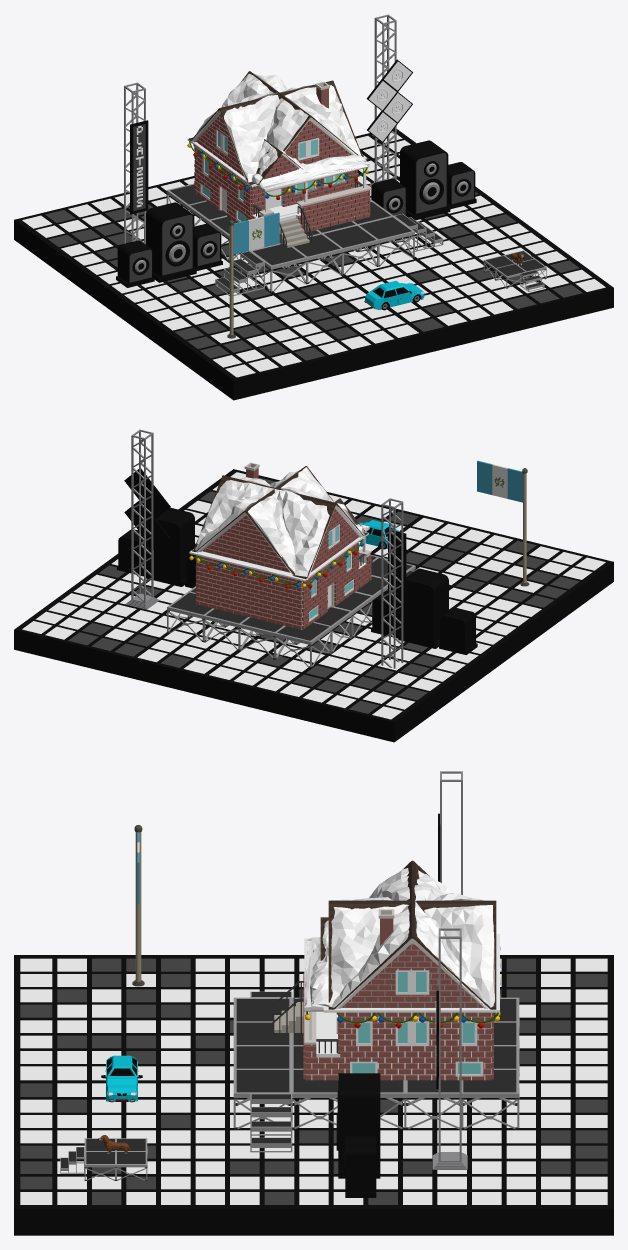
3 views of the same model, one above another, from view 1: azimuth 30°, elevation 25°; view 2: azimuth 150°, elevation 25°; view 3: azimuth 270°, elevation 25° (orthographic). The views are drawn at different scales.
Parts seen in each view (by area): view 1: Cube.008, Cube.1419, OBJRANDOM_GUATEMALAN_FLAG, VEHICLES_CAR; view 2: Cube.008, Cube.1419, OBJRANDOM_GUATEMALAN_FLAG, VEHICLES_CAR; view 3: Cube.008, Cube.1419, VEHICLES_CAR, OBJRANDOM_GUATEMALAN_FLAG.
Boxes of the visible parts, x1,y1,x2,y2 form: Cube.008: (14,14,613,400); Cube.1419: (187,71,371,248); OBJRANDOM_GUATEMALAN_FLAG: (227,212,279,338); VEHICLES_CAR: (364,281,424,310); Cube.008: (14,429,613,742); Cube.1419: (189,462,372,629); OBJRANDOM_GUATEMALAN_FLAG: (477,460,529,586); VEHICLES_CAR: (359,520,400,549); Cube.008: (14,771,613,1235); Cube.1419: (272,860,500,1080); VEHICLES_CAR: (101,1055,142,1102); OBJRANDOM_GUATEMALAN_FLAG: (132,825,144,986).
Bounding box in the file's own units: 4000 × 1972 × 4000.
Materials: 53 (1 with a texture image).
